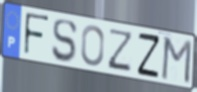F: (23, 11, 50, 59)
M: (160, 36, 193, 86)
O: (80, 24, 106, 68)
S: (51, 19, 79, 65)
Z: (106, 27, 135, 73), (137, 32, 161, 79)
